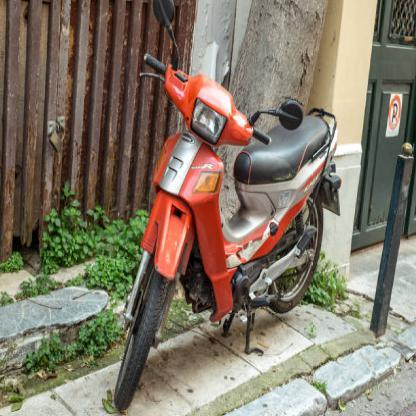Motorcycle: (101, 0, 343, 415)
